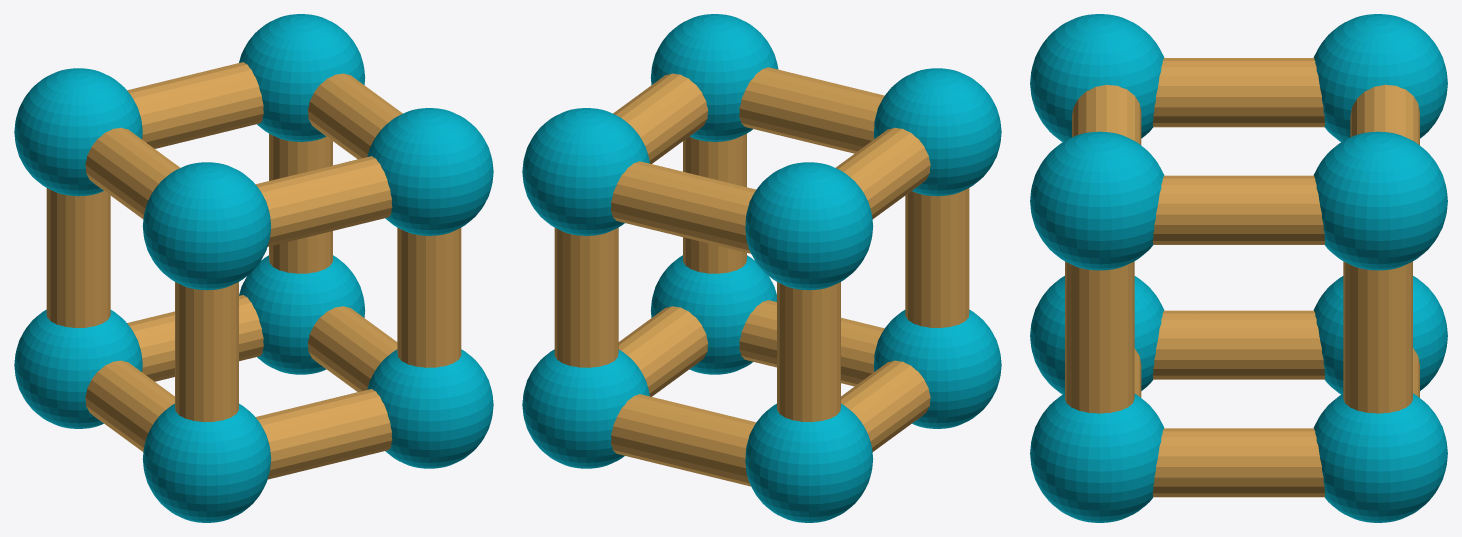
File: estrutura.glb
The picture shows the model from 3 angles, left to right: view 1: azimuth 30°, elevation 25°; view 2: azimuth 150°, elevation 25°; view 3: azimuth 270°, elevation 25°; orthographic projection. The views are drawn at different scales.
Visible parts, largest first — view 1: Mesh_Mesh_head_geo.001_lambert2SG.001; view 2: Mesh_Mesh_head_geo.001_lambert2SG.001; view 3: Mesh_Mesh_head_geo.001_lambert2SG.001.
Part boxes in pixels (x1,y1,x2,y2): Mesh_Mesh_head_geo.001_lambert2SG.001: [14, 14, 493, 522]; Mesh_Mesh_head_geo.001_lambert2SG.001: [522, 14, 1001, 522]; Mesh_Mesh_head_geo.001_lambert2SG.001: [1030, 14, 1447, 522].
Size of the model in its own units: 30 by 30 by 30.
